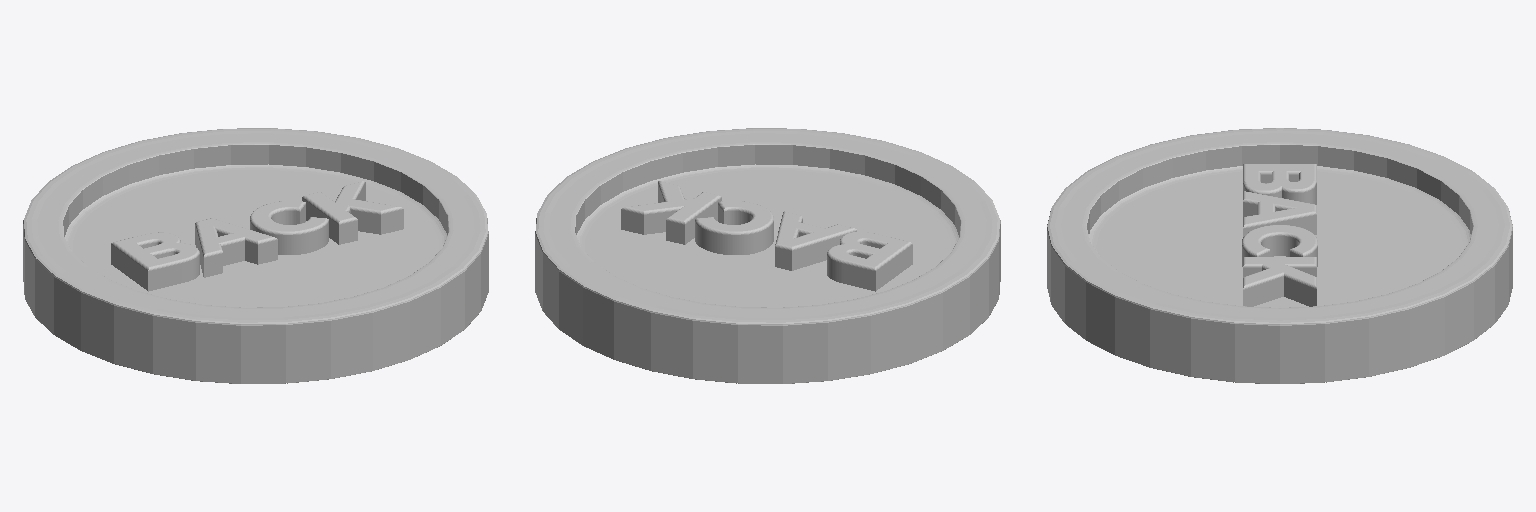
Rendered from backcoin.obj.
3 views of the same model, side by side, from view 1: azimuth 30°, elevation 25°; view 2: azimuth 150°, elevation 25°; view 3: azimuth 270°, elevation 25° (orthographic).
Visible parts, largest first — view 1: Cylinder.001_Cylinder.003; view 2: Cylinder.001_Cylinder.003; view 3: Cylinder.001_Cylinder.003.
Part boxes in pixels (left/top/right/bottom): Cylinder.001_Cylinder.003: left=23, top=128, right=488, bottom=383; Cylinder.001_Cylinder.003: left=535, top=128, right=1000, bottom=383; Cylinder.001_Cylinder.003: left=1047, top=128, right=1512, bottom=383.
Bounding box in the file's own units: 10.71 × 1.6 × 10.71.